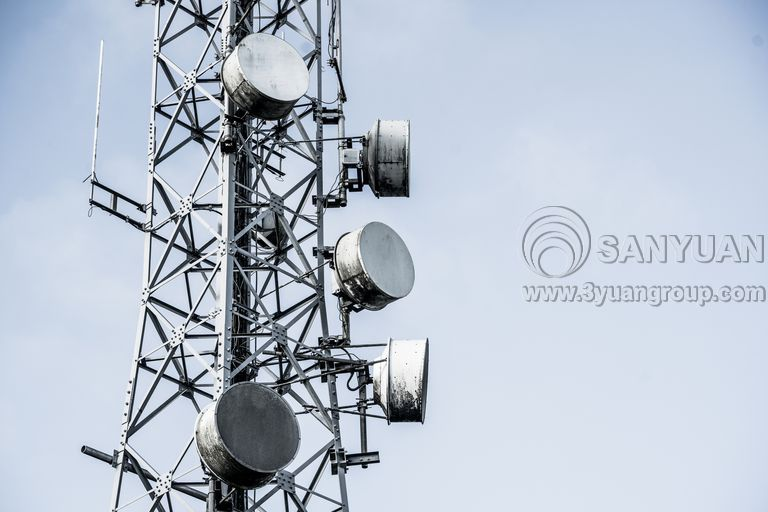ba: (176, 373, 310, 486), (315, 208, 427, 323), (210, 27, 313, 117), (341, 105, 425, 192), (359, 341, 441, 428)
